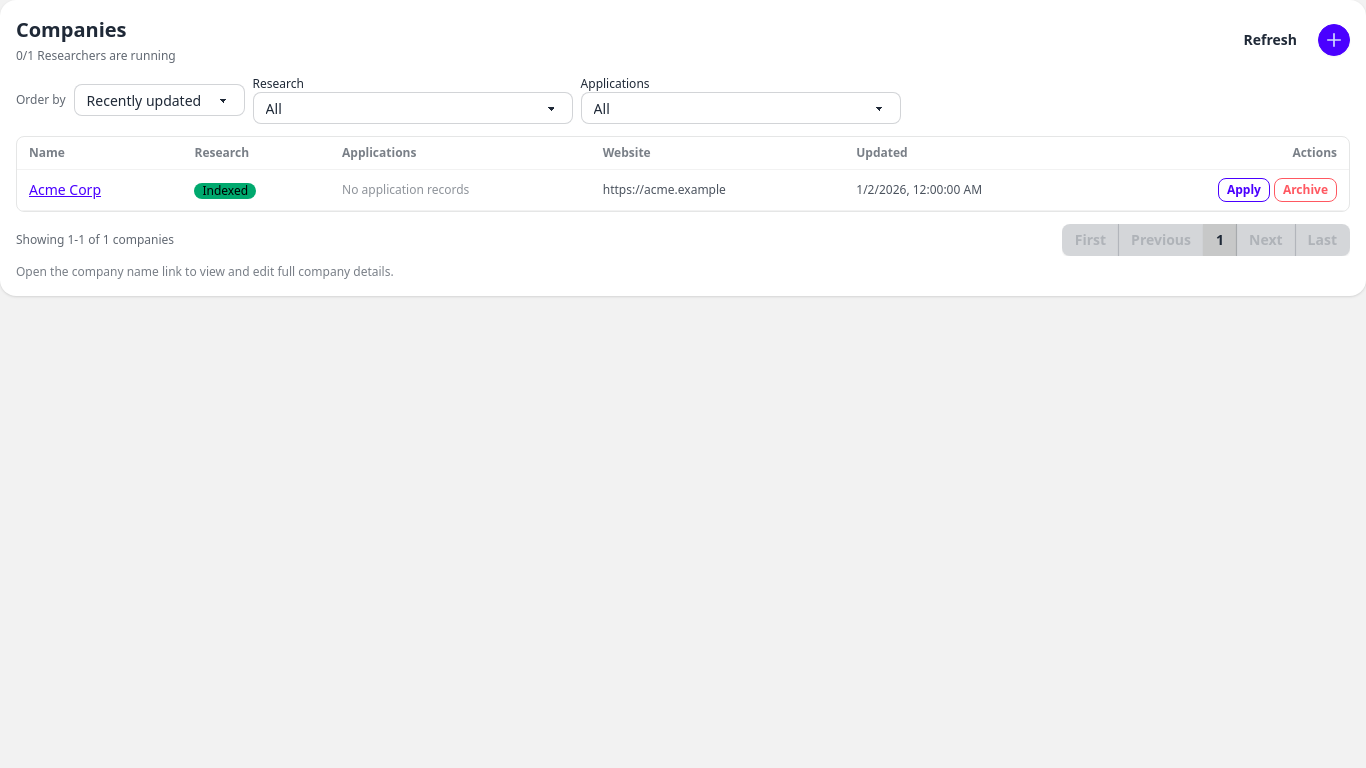
CompaniesPage › submits explicit archived restore with acknowledge flag and shows inline restore errors
Expected: the cell "Acme Corp" is shown, x1=17 y1=170 x2=182 y2=210
Click the button named "New company" at point(1334, 40), box x1=1318 y1=24 x2=1350 y2=56
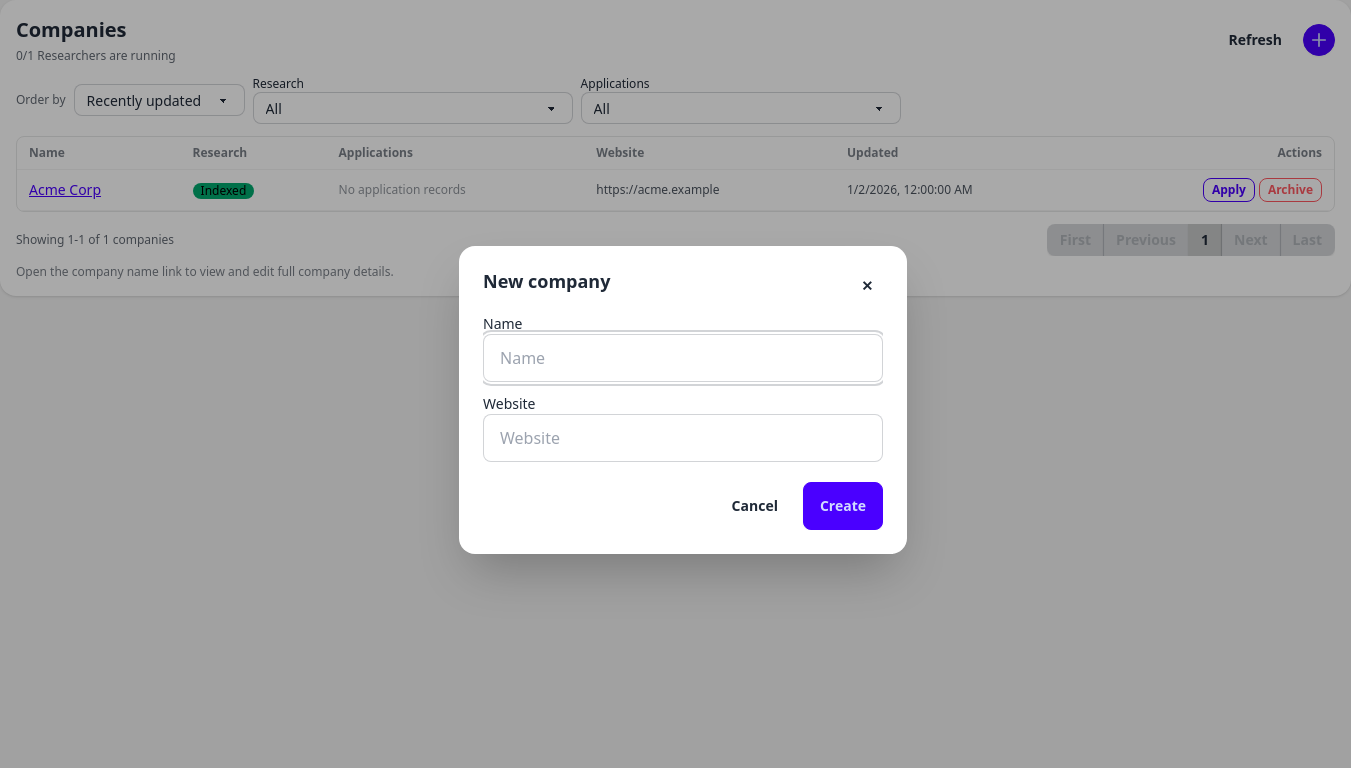
Type "Old Co" into the field labelled "Name" at point(683, 358), box x1=483 y1=334 x2=883 y2=382
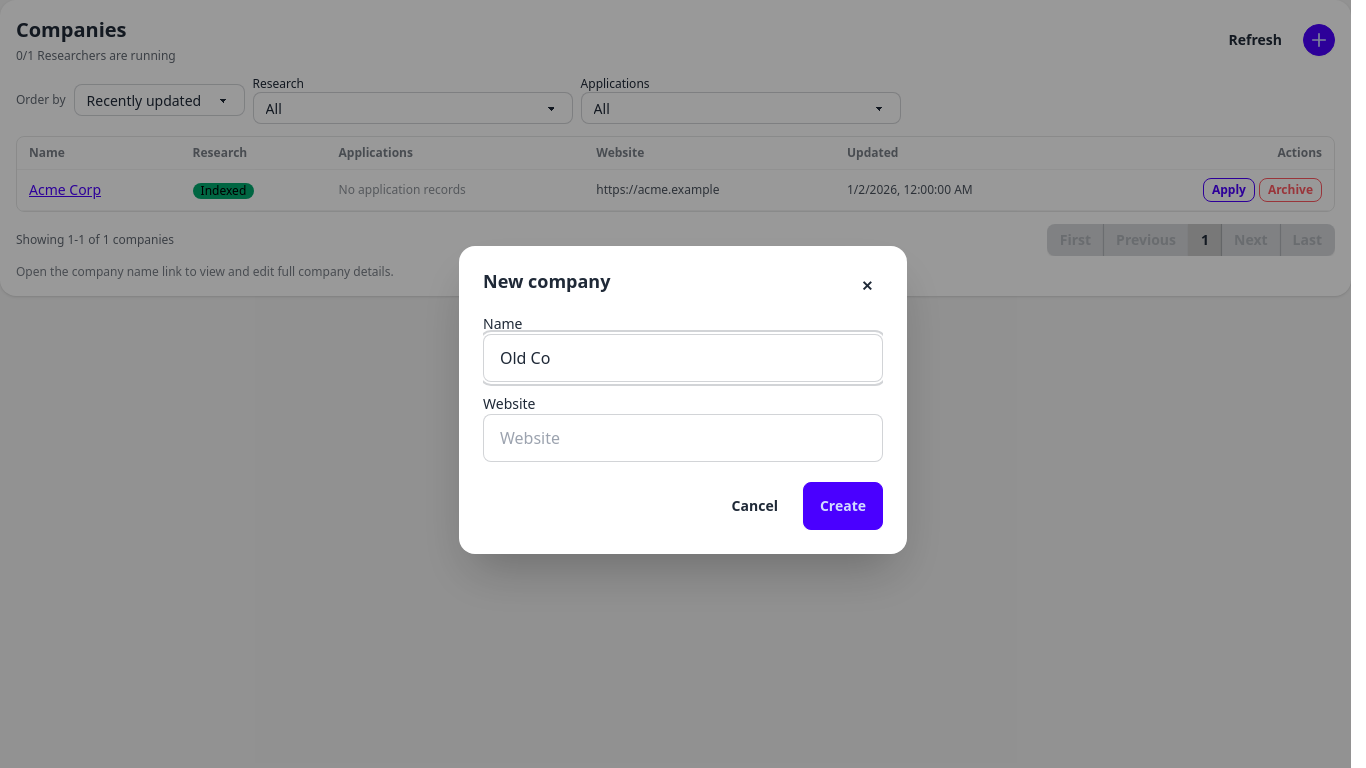
Click the button "Create" at point(843, 506), box x1=803 y1=482 x2=883 y2=530
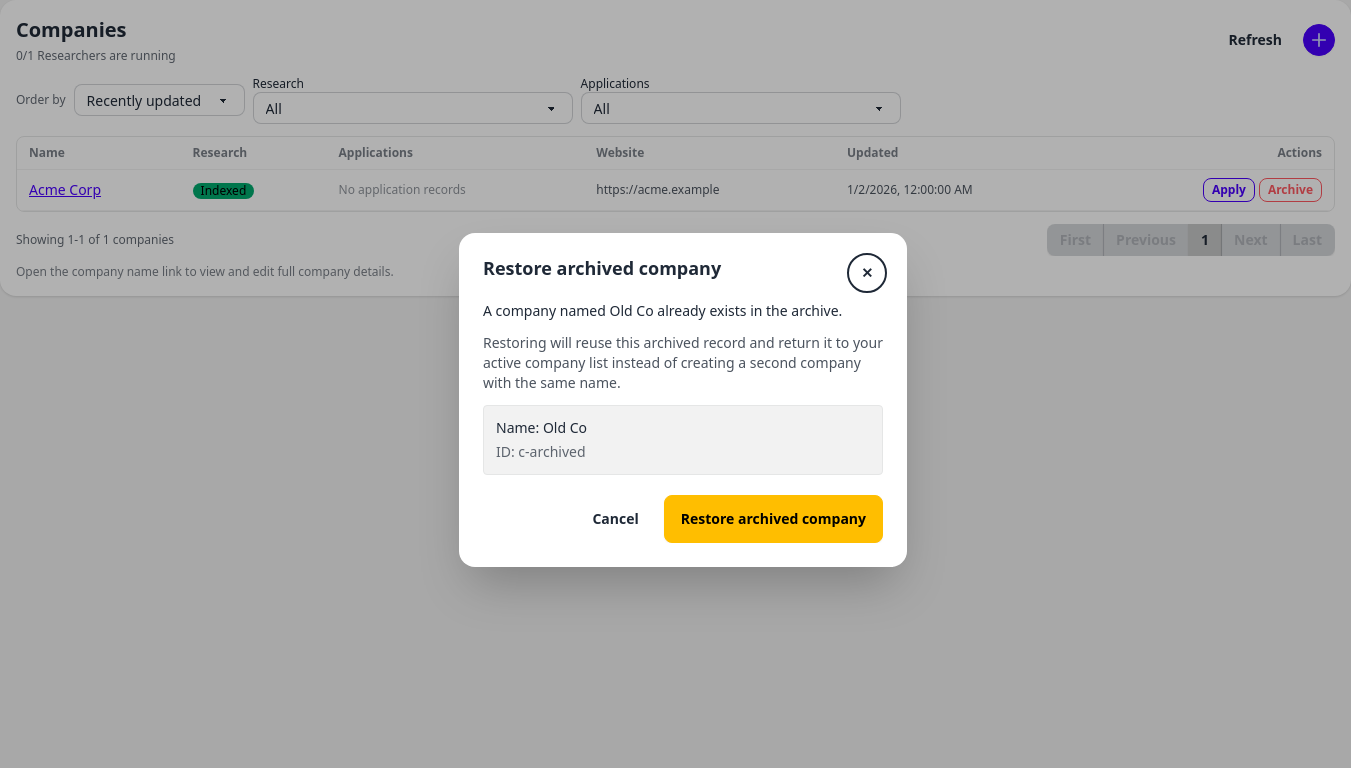
Click the button "Restore archived company" at point(773, 519), box x1=664 y1=495 x2=883 y2=543
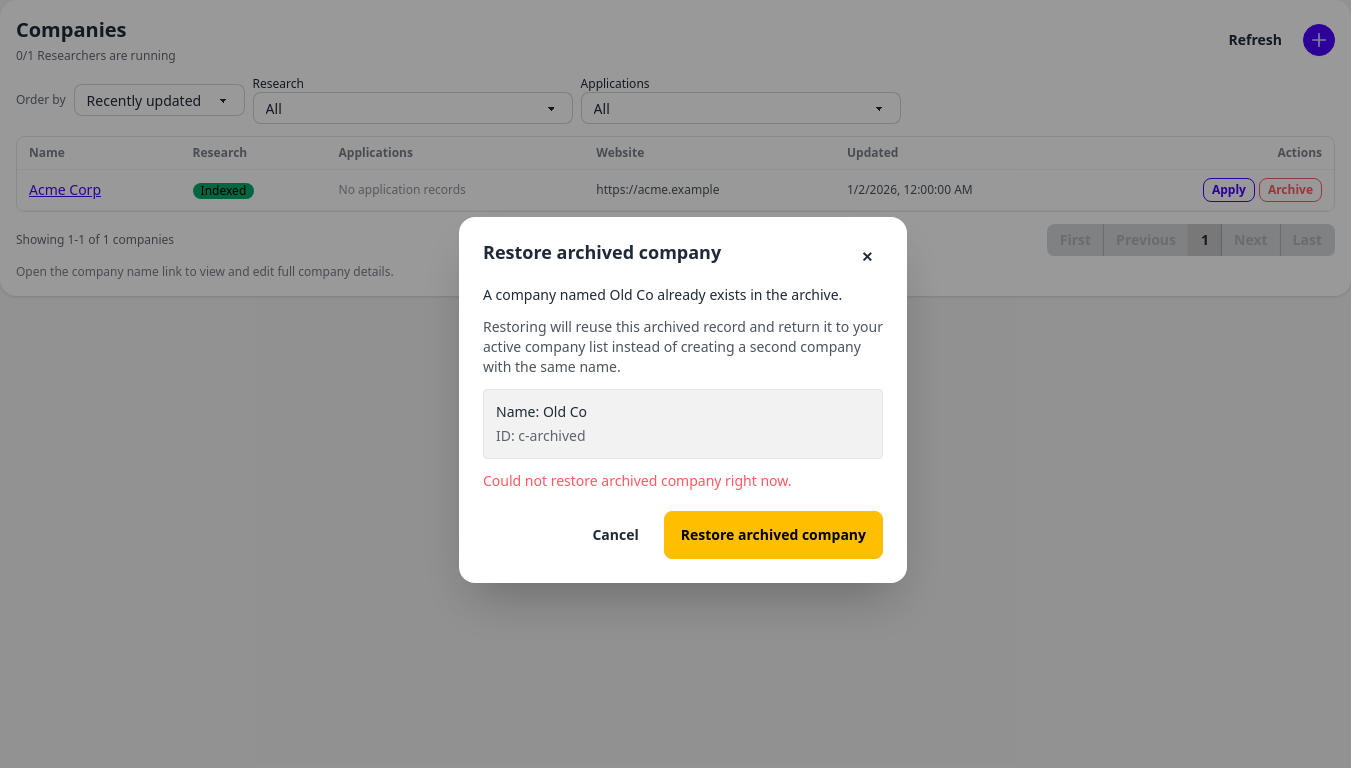
Expected: the text "Could not restore archived company right now." is shown, x1=483 y1=471 x2=792 y2=490
